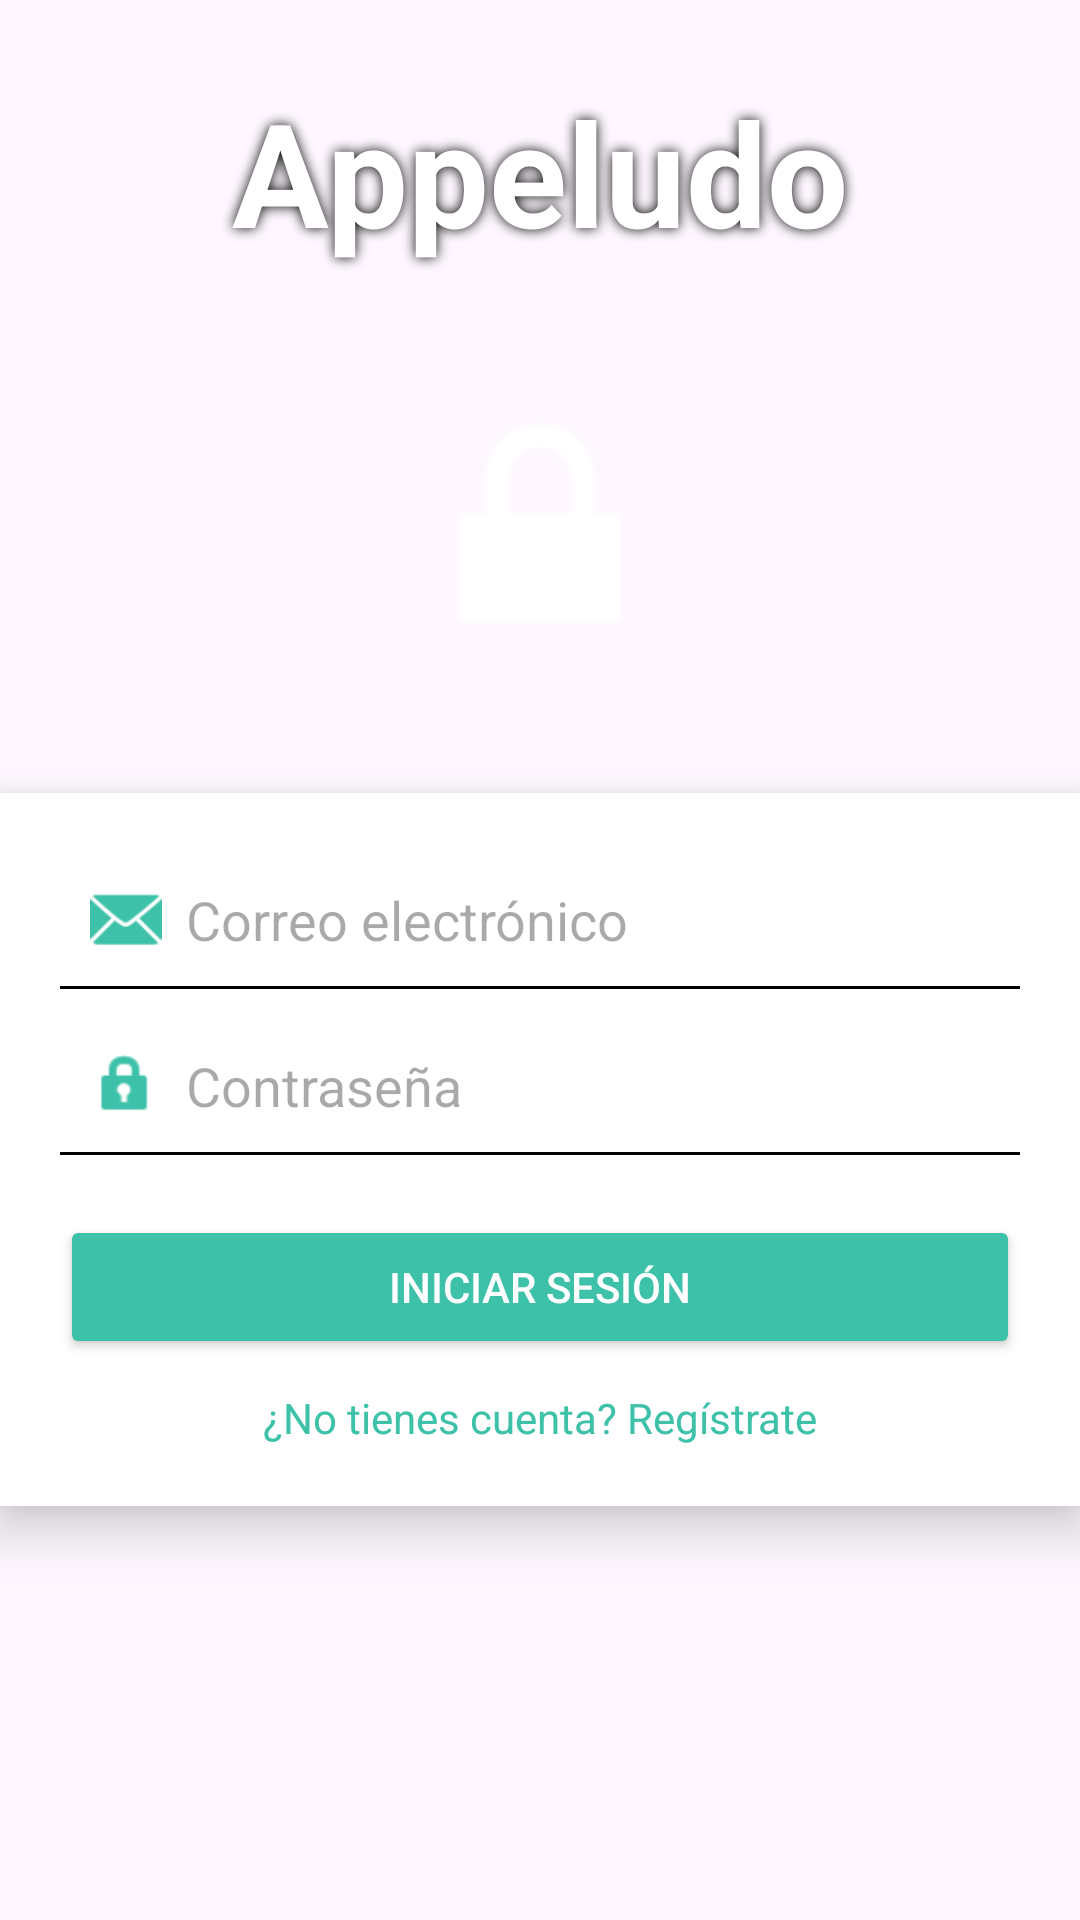

Icon bounding boxes for this 1080px×1920px phone screenshot, format BBox(x1, y1, x2, y2):
email: BBox(90, 894, 162, 945)
lock idle: BBox(101, 1055, 148, 1110)
